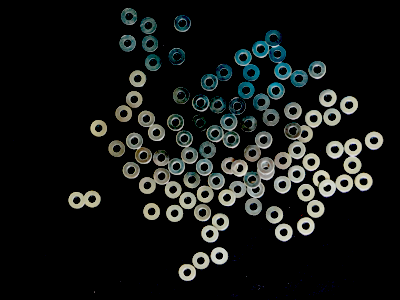circle: (173, 13, 193, 34), (340, 96, 360, 115), (365, 131, 384, 151), (355, 172, 374, 192), (319, 88, 338, 108), (120, 6, 139, 26), (142, 202, 161, 222), (125, 90, 145, 109), (89, 119, 108, 139), (67, 191, 86, 211), (323, 108, 342, 127), (266, 206, 285, 225), (167, 48, 186, 67), (118, 34, 137, 53), (138, 109, 157, 128), (108, 139, 127, 158), (309, 60, 327, 80), (270, 44, 288, 64), (211, 214, 231, 232), (345, 138, 363, 157), (336, 175, 354, 194), (326, 140, 344, 159), (313, 169, 331, 188), (319, 180, 337, 199), (298, 184, 316, 203), (306, 200, 325, 218), (297, 217, 315, 236), (253, 93, 271, 112), (229, 181, 247, 200), (179, 264, 197, 283), (194, 204, 212, 223), (192, 114, 210, 133), (166, 205, 184, 224), (167, 113, 185, 132), (172, 86, 190, 105), (140, 16, 158, 35), (148, 124, 166, 143), (344, 157, 364, 174), (296, 126, 314, 144), (288, 166, 306, 184), (284, 102, 302, 120), (291, 69, 309, 87), (275, 224, 293, 242), (263, 109, 281, 127), (266, 29, 284, 47), (237, 82, 255, 100), (240, 115, 258, 133), (244, 144, 262, 162), (211, 248, 229, 266), (192, 252, 210, 270), (221, 157, 239, 175), (235, 49, 253, 67), (201, 74, 219, 92), (192, 94, 210, 112), (196, 159, 214, 177), (141, 35, 159, 53), (145, 54, 163, 72), (168, 158, 186, 176), (153, 168, 171, 186), (126, 133, 144, 151), (122, 161, 140, 179), (84, 190, 102, 208), (129, 70, 148, 87), (302, 154, 321, 171), (306, 109, 323, 128), (289, 141, 306, 160), (275, 151, 292, 170), (216, 63, 233, 82), (180, 192, 197, 211), (165, 181, 182, 200), (115, 105, 134, 122), (257, 158, 275, 175), (257, 163, 275, 180), (245, 199, 263, 216), (253, 40, 270, 58), (243, 65, 261, 82), (219, 189, 236, 207), (201, 226, 219, 243), (229, 98, 247, 115), (220, 113, 238, 130), (224, 131, 241, 149), (207, 125, 224, 143), (197, 186, 215, 203), (211, 96, 227, 115), (182, 146, 198, 165), (138, 178, 157, 194), (275, 176, 292, 193), (285, 123, 302, 140), (268, 82, 285, 99), (275, 63, 292, 80), (232, 160, 249, 177), (208, 173, 225, 190), (184, 172, 201, 189), (154, 149, 171, 166), (248, 182, 266, 198), (177, 130, 193, 148), (244, 172, 261, 188), (256, 132, 273, 148), (200, 142, 216, 159), (135, 148, 152, 164)
